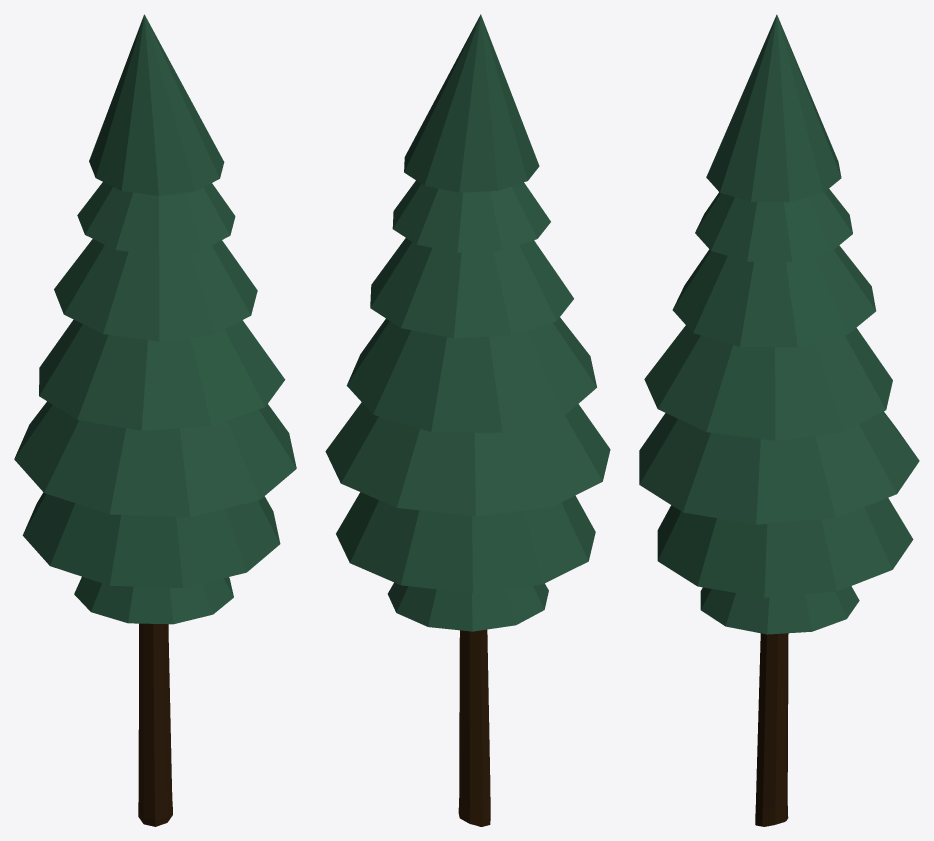
File: ELKA).fbx
3 renders of one model, left to right at view 1: azimuth 30°, elevation 25°; view 2: azimuth 150°, elevation 25°; view 3: azimuth 270°, elevation 25°, orthographic.
Visible parts, largest first — view 1: Cone.002, Cone.003, Cone.001, Cone.004, Cone.006, Cone.005, Cube.001, Cone; view 2: Cone.002, Cone.003, Cone.001, Cone.004, Cone.006, Cone.005, Cube.001, Cone; view 3: Cone.002, Cone.003, Cone.001, Cone.004, Cone.006, Cone.005, Cube.001, Cone.
Part boxes in pixels (left/top/right/bottom): Cone.002: left=14, top=401, right=296, bottom=516; Cone.003: left=39, top=319, right=285, bottom=430; Cone.001: left=22, top=492, right=280, bottom=587; Cone.004: left=54, top=239, right=257, bottom=341; Cone.006: left=89, top=14, right=224, bottom=195; Cone.005: left=77, top=182, right=235, bottom=255; Cube.001: left=138, top=623, right=172, bottom=826; Cone: left=74, top=576, right=233, bottom=624; Cone.002: left=325, top=402, right=610, bottom=516; Cone.003: left=346, top=317, right=596, bottom=432; Cone.001: left=336, top=492, right=595, bottom=593; Cone.004: left=370, top=238, right=573, bottom=338; Cone.006: left=404, top=14, right=539, bottom=192; Cone.005: left=392, top=180, right=550, bottom=252; Cube.001: left=458, top=629, right=490, bottom=826; Cone: left=387, top=582, right=548, bottom=631; Cone.002: left=639, top=411, right=919, bottom=524; Cone.003: left=644, top=325, right=892, bottom=440; Cone.001: left=657, top=498, right=913, bottom=597; Cone.004: left=672, top=245, right=876, bottom=347; Cone.006: left=706, top=14, right=841, bottom=202; Cone.005: left=695, top=189, right=852, bottom=261; Cube.001: left=755, top=633, right=788, bottom=826; Cone: left=700, top=586, right=859, bottom=634.
Bounding box in the file's own units: 43.16 × 136 × 42.7.
